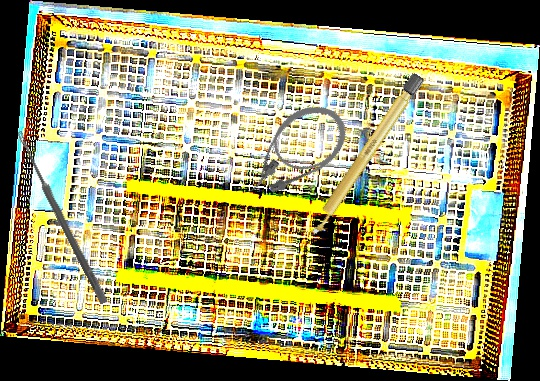Cannula: (226, 92, 359, 210)
Scalpel Handle: (304, 70, 426, 241)
Surgical Spoon: (14, 130, 109, 305)
